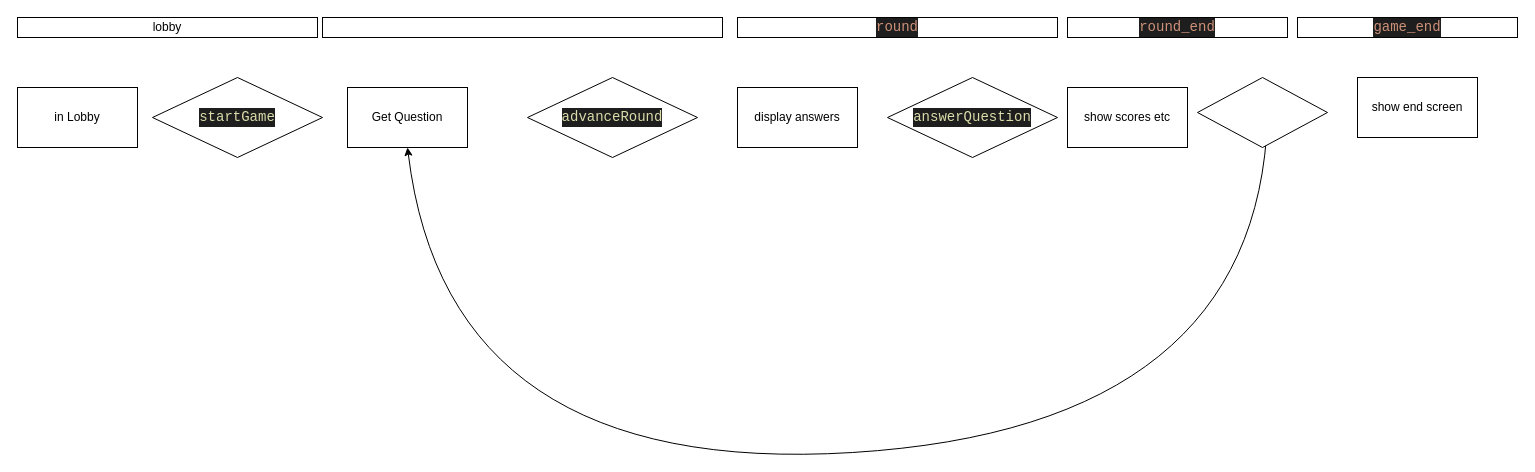
Some shapes in this 1535 by 472 pixel diagram are drawn without their labels. The centre of each missing label's shape, as x and y in pixels:
host_set_question: (522,27)
hostEndRound: (1262,112)
